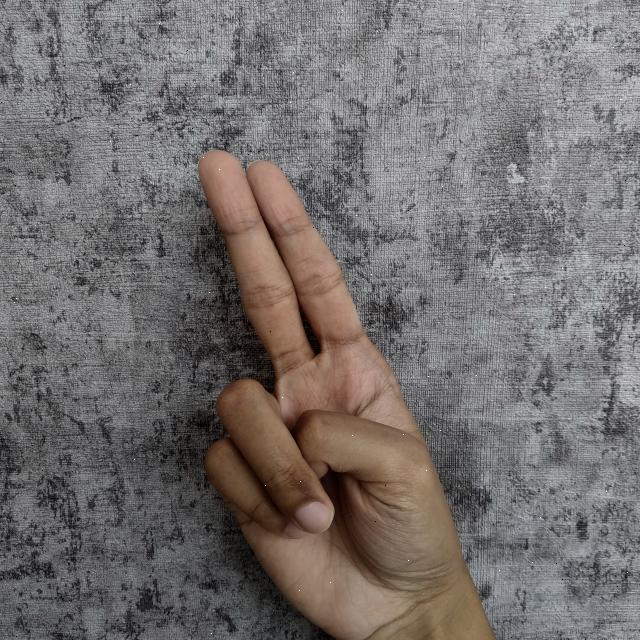U: (188, 135, 502, 640)
